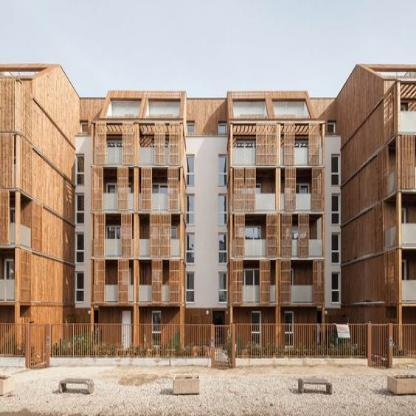Balcony: (234, 284, 324, 302), (234, 239, 324, 257), (92, 284, 182, 302), (92, 239, 182, 257), (234, 148, 324, 165), (92, 148, 182, 165), (234, 194, 324, 210), (92, 194, 182, 210)
Building Outline: (0, 63, 416, 366)
Door: (236, 269, 261, 303), (285, 225, 310, 257), (152, 225, 177, 257), (236, 225, 261, 257), (107, 225, 132, 257), (285, 183, 310, 209), (236, 183, 261, 209), (152, 183, 177, 209), (107, 183, 132, 209), (285, 141, 310, 164), (236, 141, 261, 164), (152, 141, 177, 164), (107, 141, 132, 164), (280, 267, 294, 302), (118, 267, 132, 302), (212, 311, 225, 346), (122, 311, 131, 346)
Facade: (74, 90, 341, 365)
Floor Slab: (234, 302, 324, 304), (234, 165, 324, 167), (234, 211, 324, 213), (234, 257, 324, 259), (92, 302, 182, 304), (92, 165, 182, 167), (92, 211, 182, 213), (92, 257, 182, 259)
Pillar: (275, 122, 281, 347), (134, 122, 140, 347), (229, 122, 233, 349), (179, 122, 183, 349), (322, 122, 325, 349), (91, 122, 94, 349)
Window: (273, 101, 309, 116), (105, 101, 140, 116), (145, 101, 180, 116), (233, 101, 267, 116), (284, 311, 293, 346), (152, 311, 161, 346), (252, 311, 261, 346), (219, 273, 227, 302), (219, 156, 227, 185), (219, 195, 227, 224), (219, 234, 227, 263), (332, 273, 339, 302), (332, 156, 339, 185), (332, 195, 339, 224), (332, 234, 339, 263), (77, 273, 84, 302), (77, 156, 84, 185), (77, 195, 84, 224), (77, 234, 84, 263), (187, 273, 194, 302), (187, 156, 194, 185), (187, 195, 194, 224), (187, 234, 194, 263), (328, 124, 335, 133), (81, 124, 88, 133), (187, 124, 194, 133), (219, 124, 226, 133)
